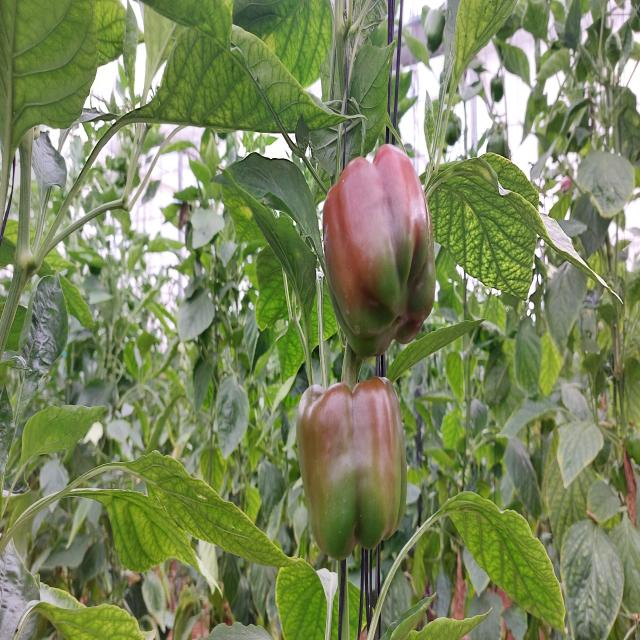BrownishRed--Can-be-Harvested: (320, 144, 440, 356), (297, 380, 410, 563)
